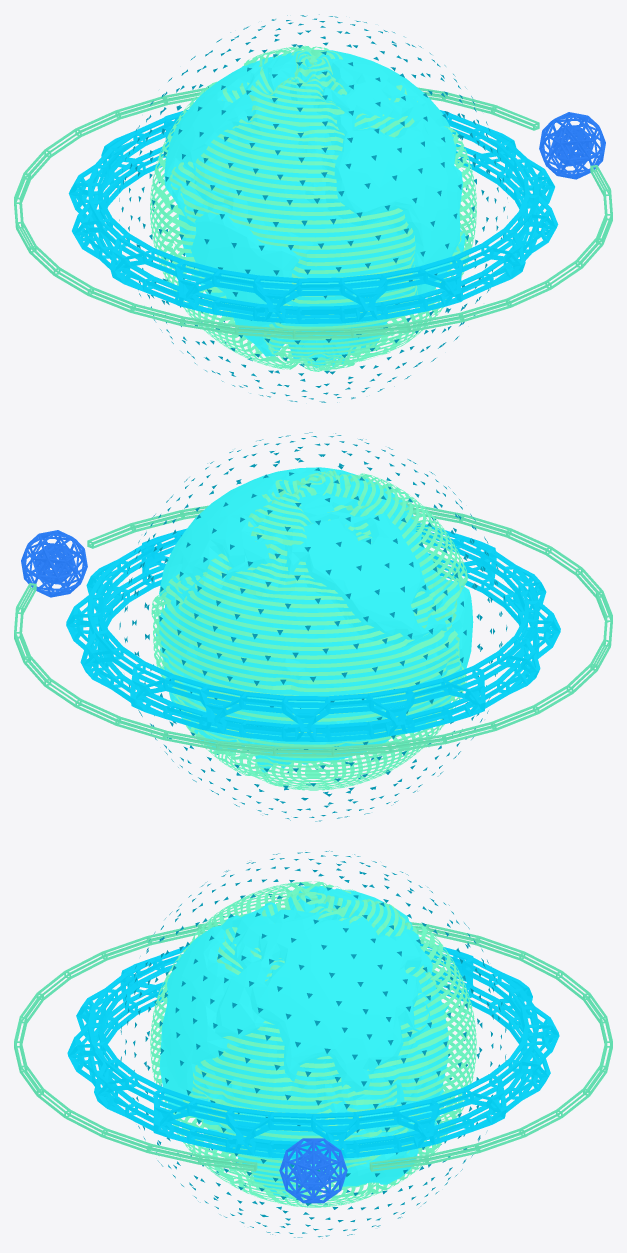
Rendered from Hologram2.glb.
The picture shows the model from 3 angles, top to bottom: view 1: azimuth 30°, elevation 25°; view 2: azimuth 150°, elevation 25°; view 3: azimuth 270°, elevation 25°; orthographic projection.
Parts seen in each view (by area): view 1: TERRE1, Circle.643, Sphere.002, Circle, Circle.455, Icosphere.002; view 2: TERRE1, Sphere.002, Circle.643, Circle, Circle.455, Icosphere.002; view 3: TERRE1, Circle.643, Sphere.002, Circle, Circle.455, Icosphere.002.
Boxes of the visible parts, x1,y1,x2,y2 form: TERRE1: (164, 49, 465, 367); Circle.643: (68, 109, 558, 323); Sphere.002: (150, 45, 476, 371); Circle: (14, 87, 612, 338); Circle.455: (119, 14, 507, 402); Icosphere.002: (539, 112, 605, 179); TERRE1: (155, 467, 473, 772); Sphere.002: (151, 469, 467, 790); Circle.643: (66, 523, 560, 741); Circle: (14, 503, 612, 756); Circle.455: (119, 432, 507, 821); Icosphere.002: (21, 530, 87, 597); TERRE1: (159, 886, 448, 1198); Circle.643: (67, 943, 559, 1158); Sphere.002: (150, 881, 476, 1207); Circle: (14, 921, 612, 1171); Circle.455: (120, 850, 506, 1238); Icosphere.002: (279, 1138, 347, 1203).
Bounding box in the file's own units: 12.94 × 7.98 × 12.3.
